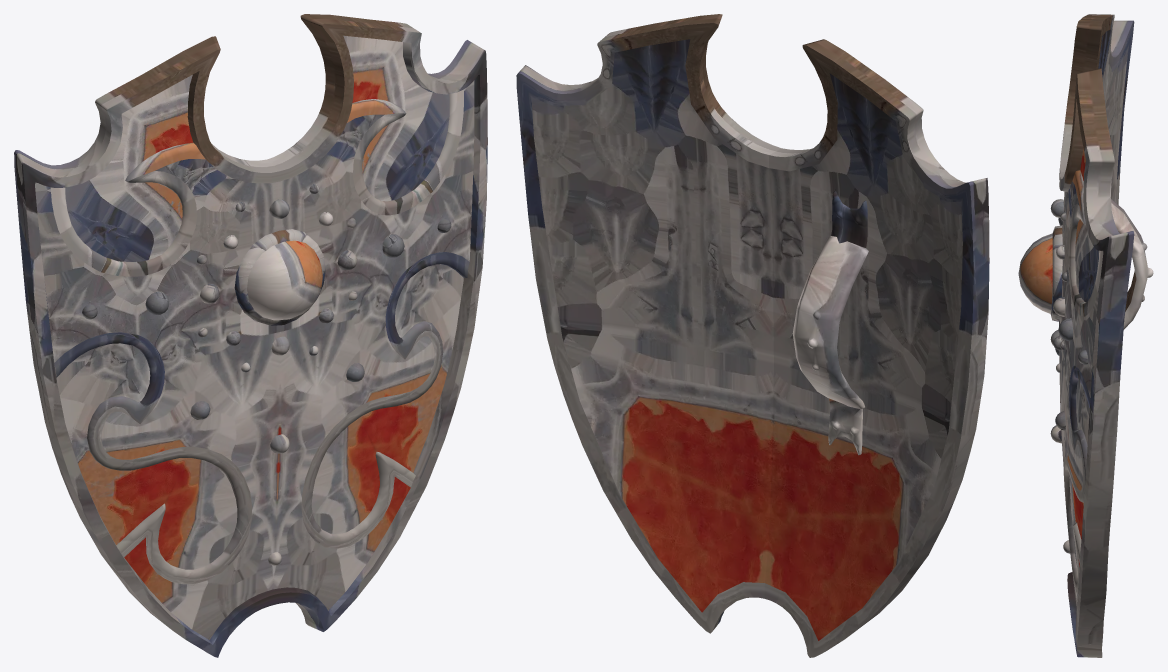
The picture shows the model from 3 angles, left to right: view 1: azimuth 30°, elevation 25°; view 2: azimuth 150°, elevation 25°; view 3: azimuth 270°, elevation 25°; orthographic projection. The views are drawn at different scales.
Parts seen in each view (by area): view 1: SM_Kite_Fuzan_1H_01_LOD0; view 2: SM_Kite_Fuzan_1H_01_LOD0; view 3: SM_Kite_Fuzan_1H_01_LOD0.
Boxes of the visible parts, x1,y1,x2,y2 form: SM_Kite_Fuzan_1H_01_LOD0: (14, 14, 487, 657); SM_Kite_Fuzan_1H_01_LOD0: (516, 14, 989, 657); SM_Kite_Fuzan_1H_01_LOD0: (1018, 14, 1153, 657).
Bounding box in the file's own units: 0.7191 × 0.9082 × 0.1895.
